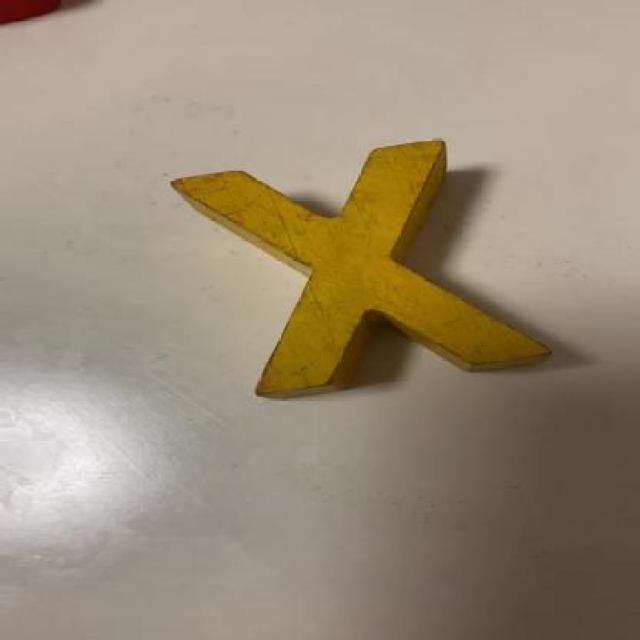X: (171, 138, 546, 394)
